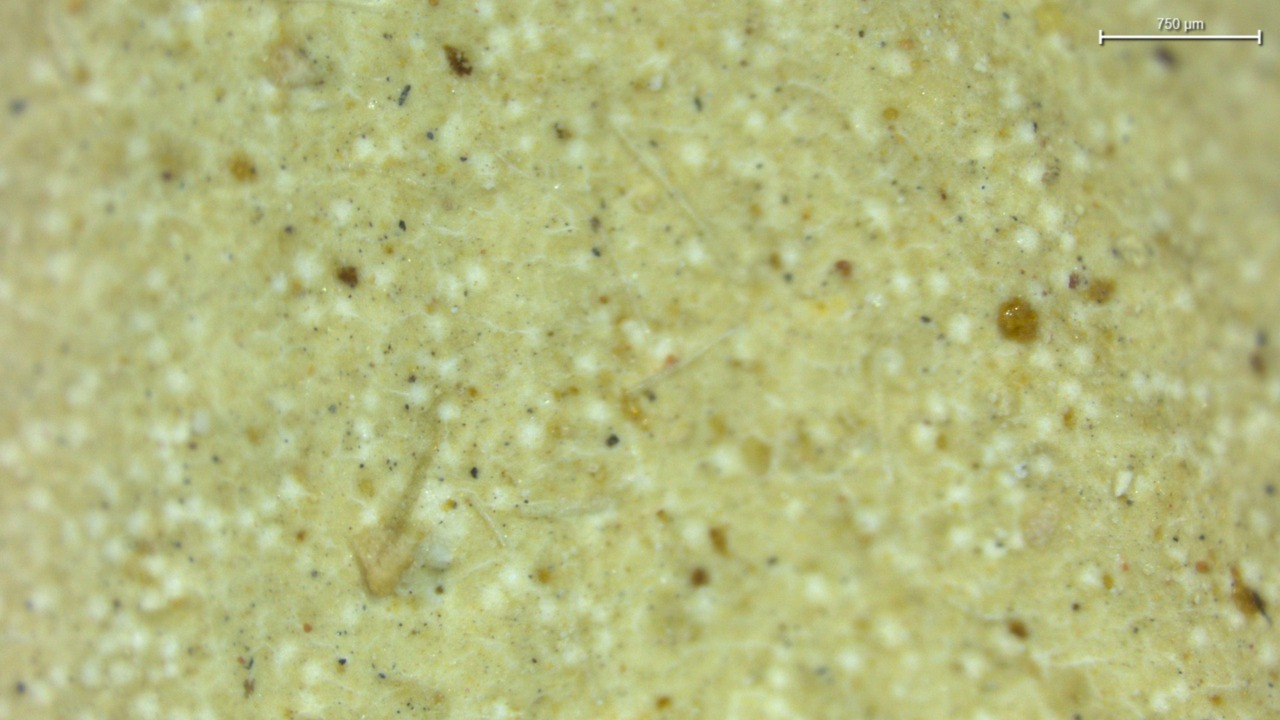microplastic_fragment: (342, 528, 427, 604)
